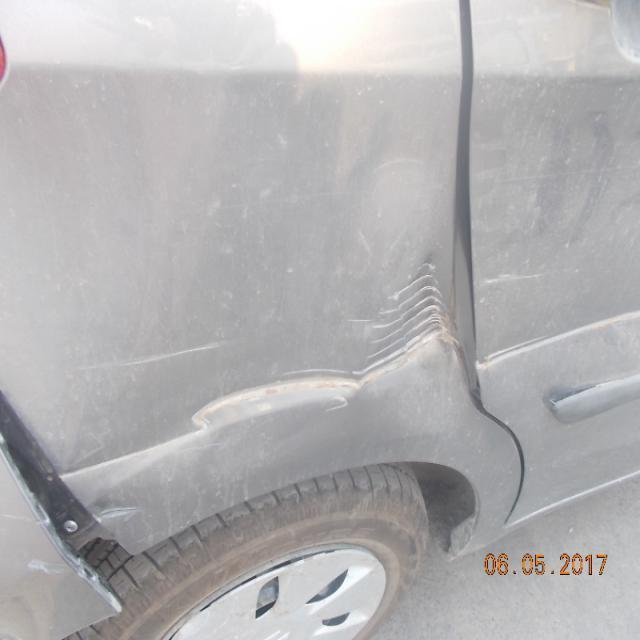quaterpanel-dent: (34, 147, 472, 634)
